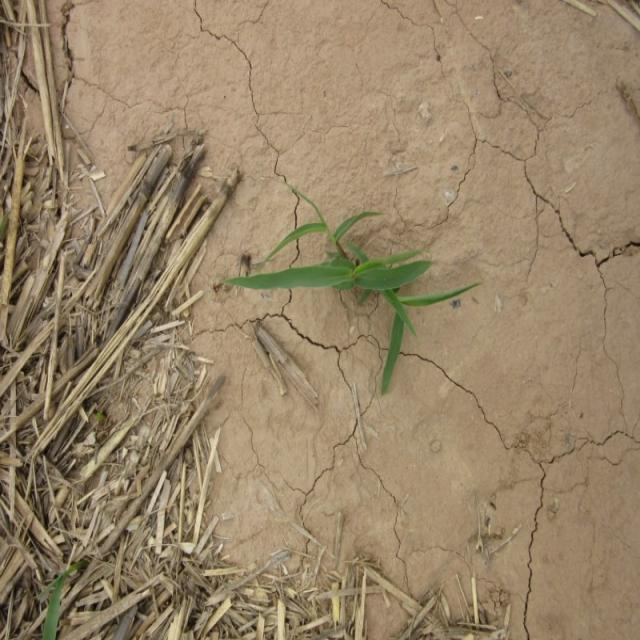bg: (215, 190, 488, 398)
